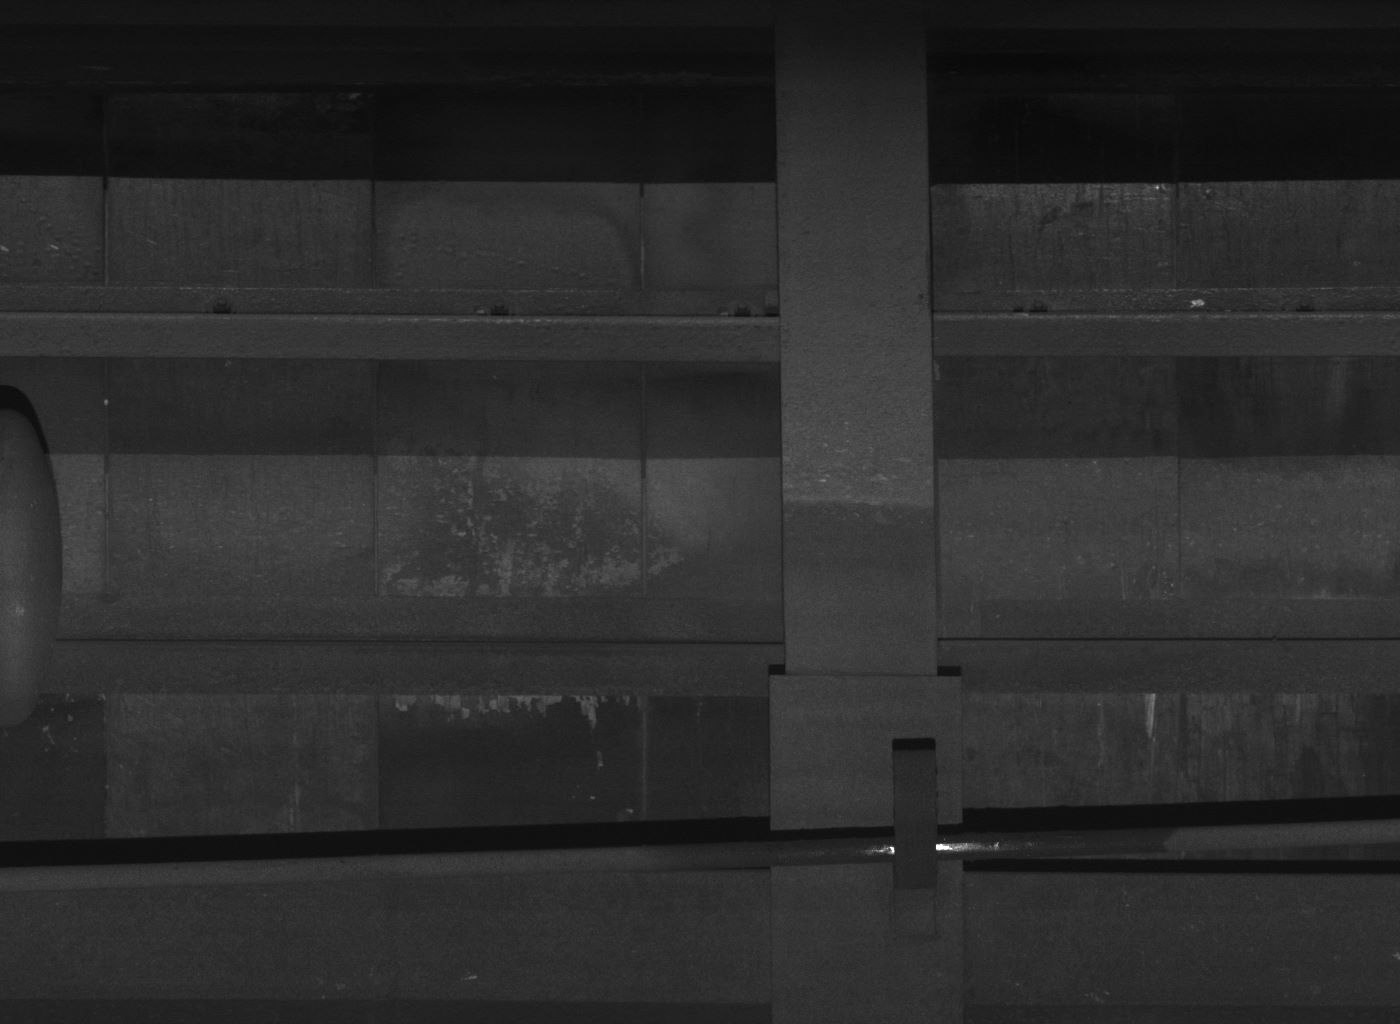normal: (891, 741, 938, 935)
